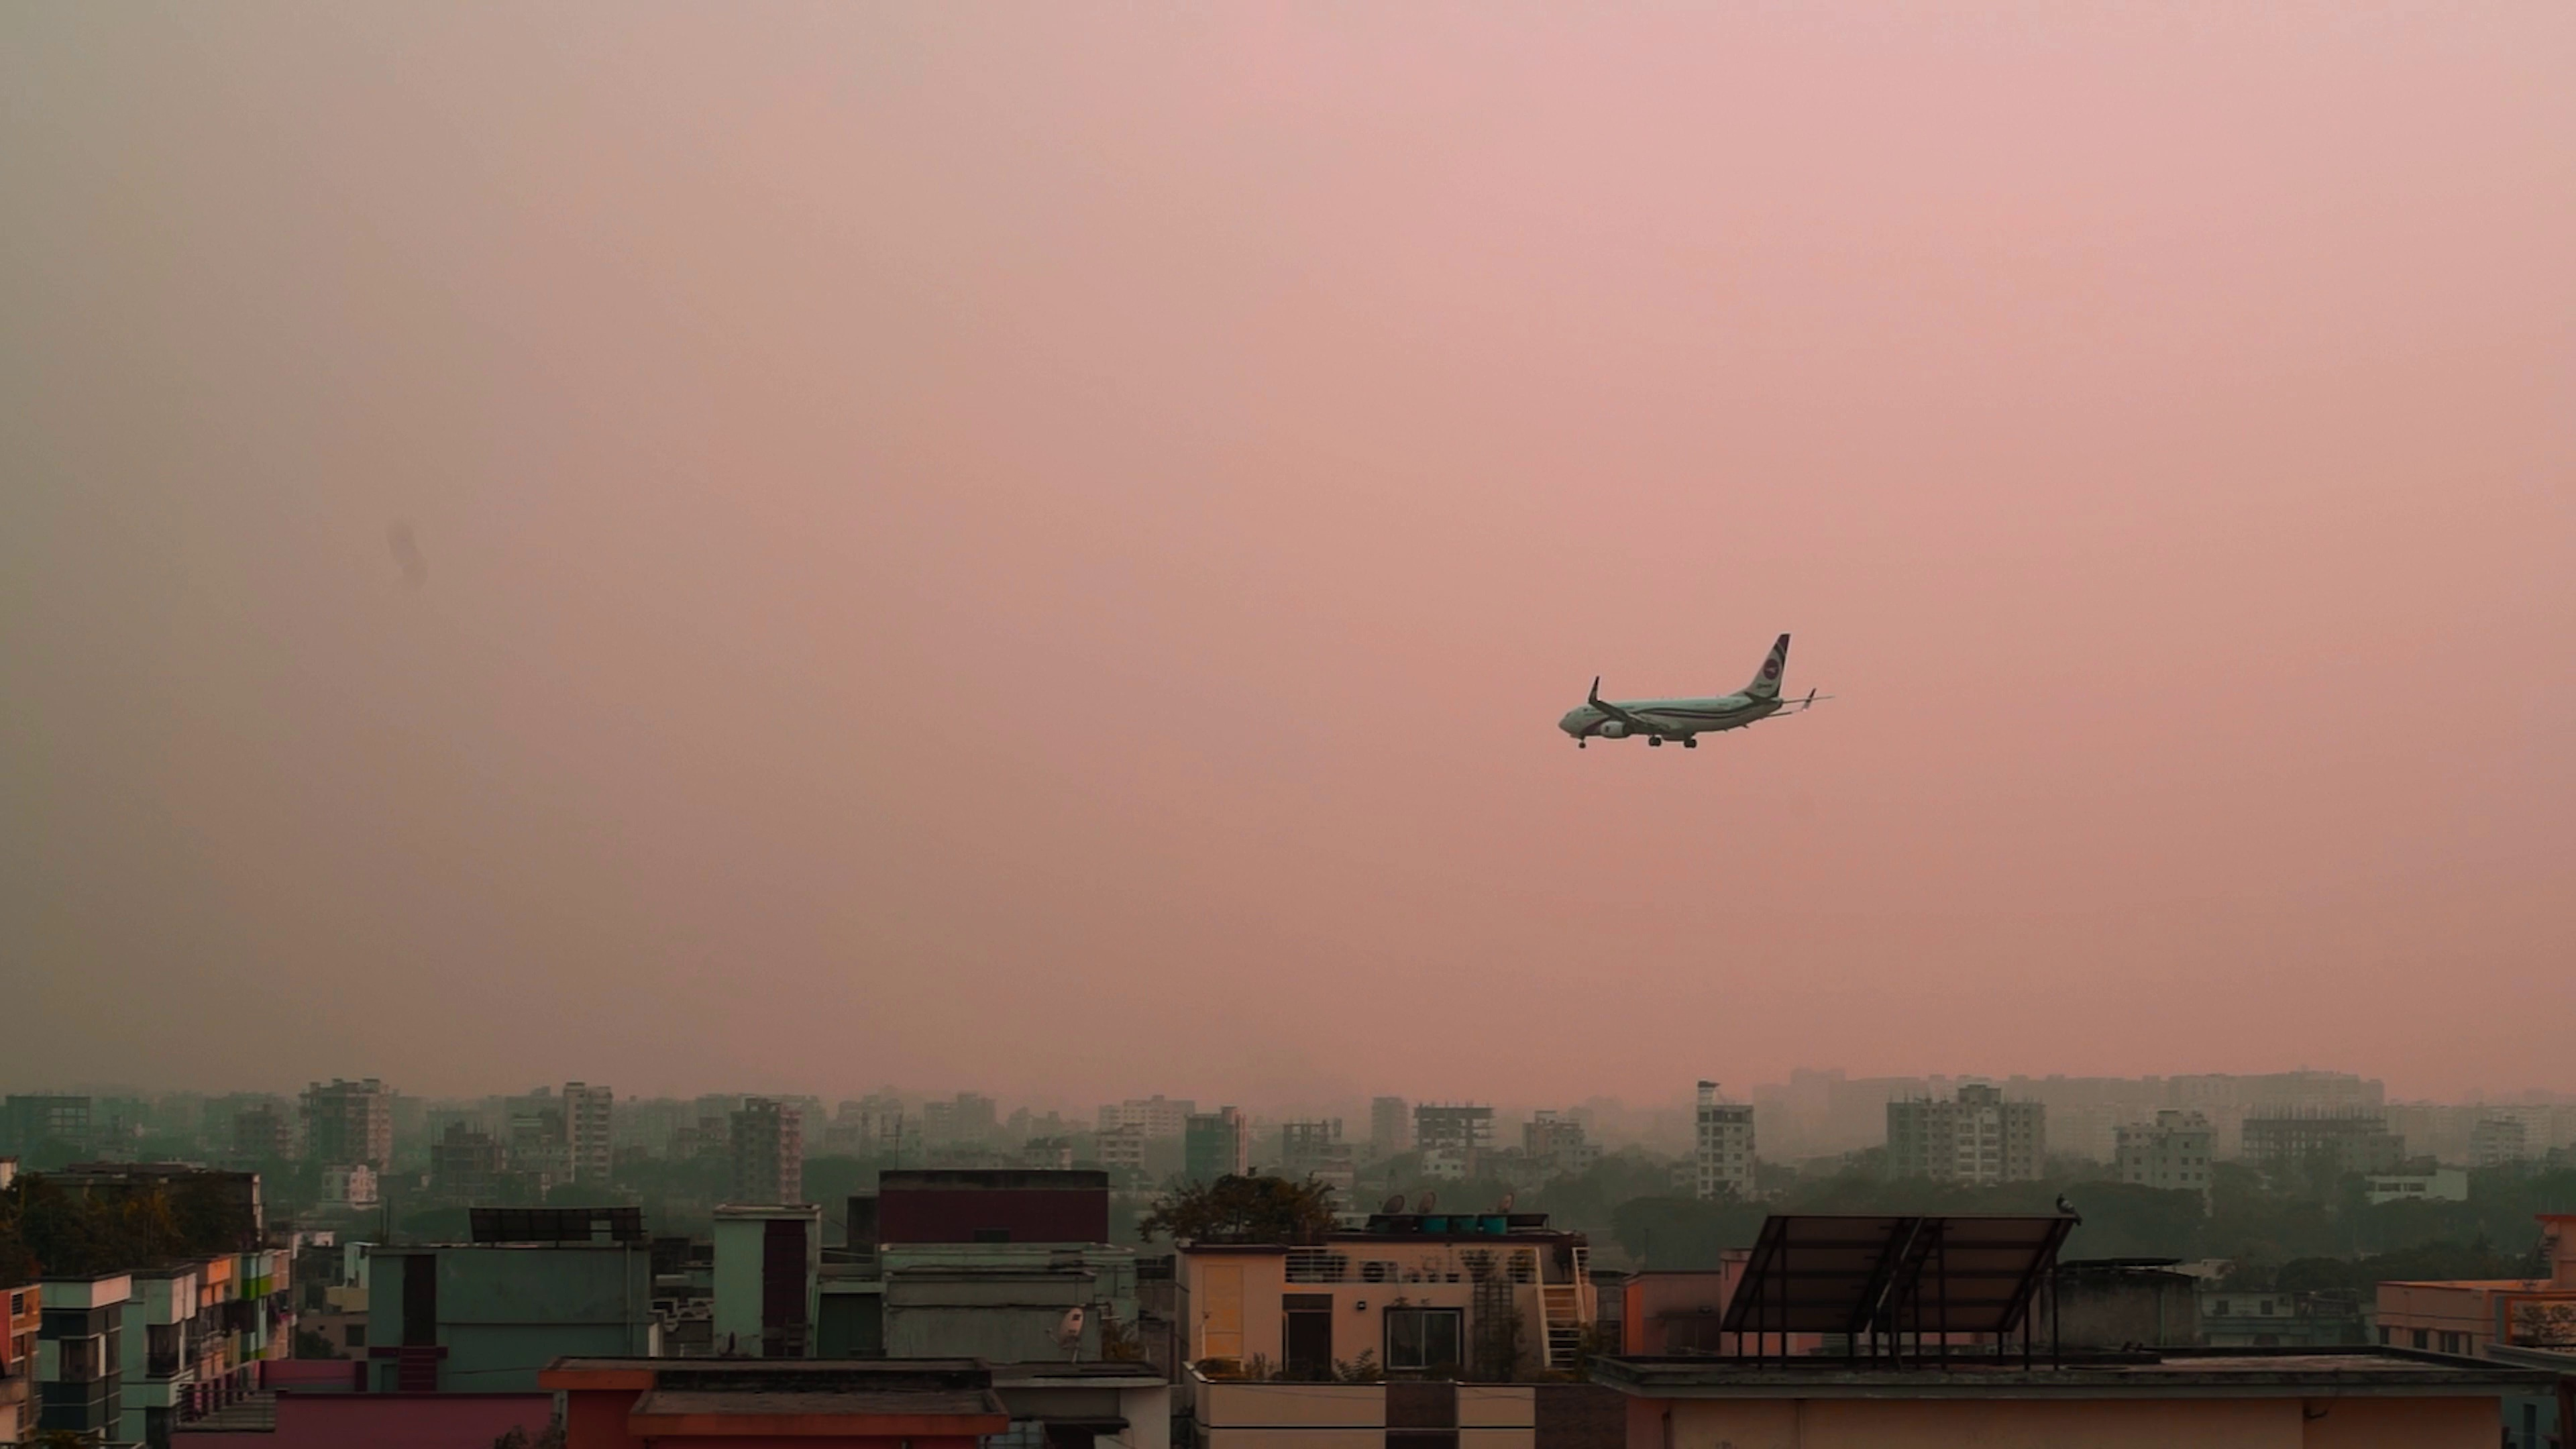plane: (1557, 633, 1836, 747)
